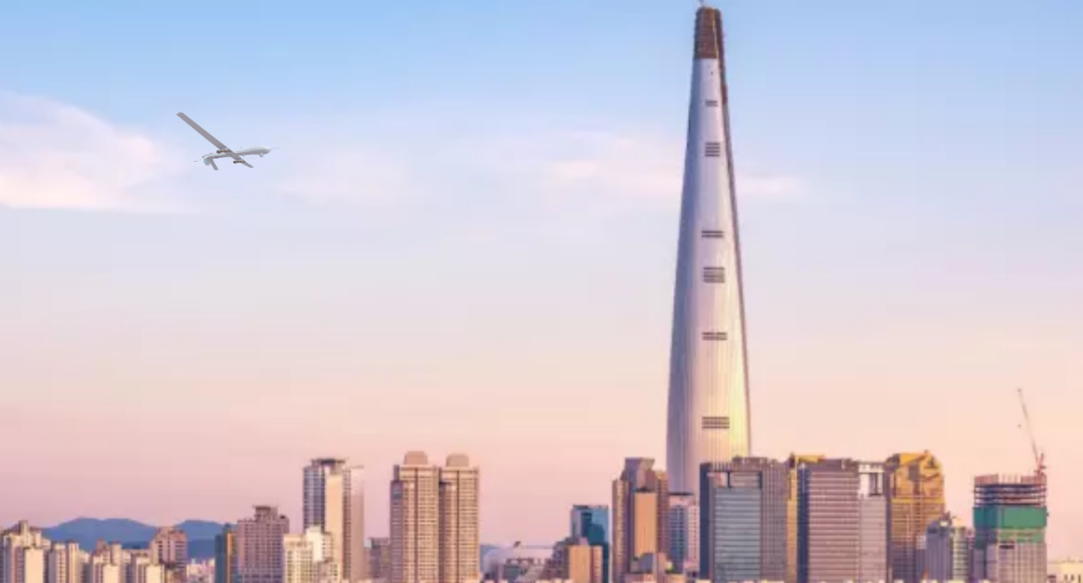military drone: (176, 111, 279, 170)
